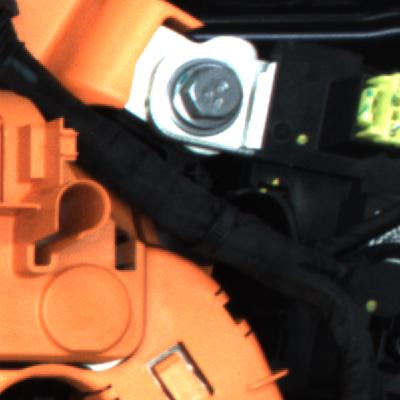nut_b: (158, 52, 253, 141)
